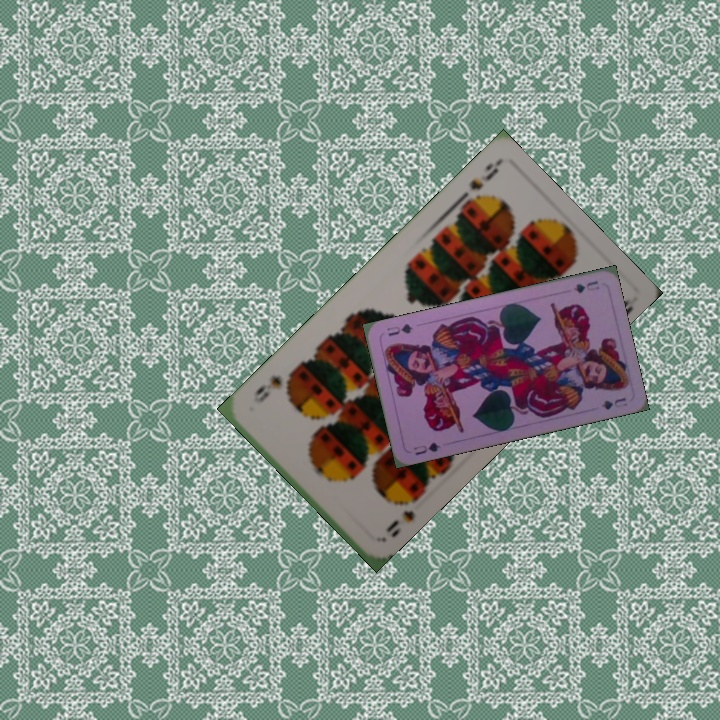GU: (410, 438, 443, 458), (570, 277, 602, 296)
S9: (454, 159, 501, 205), (382, 494, 421, 536)
